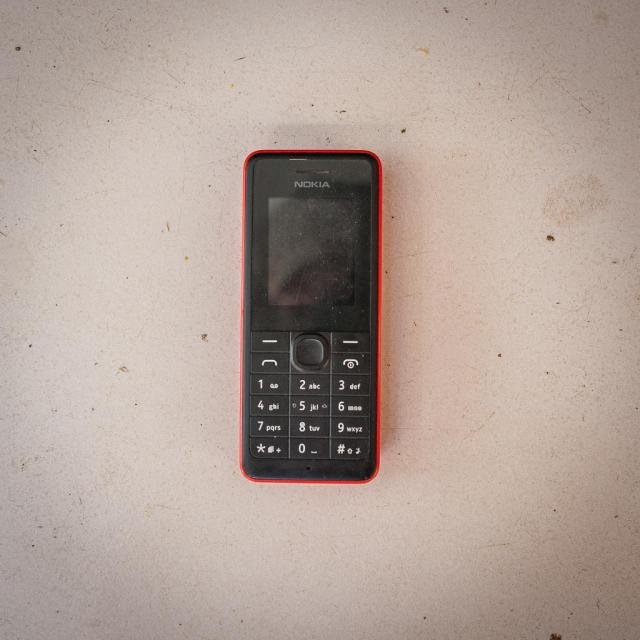Phone: (237, 148, 386, 482)
